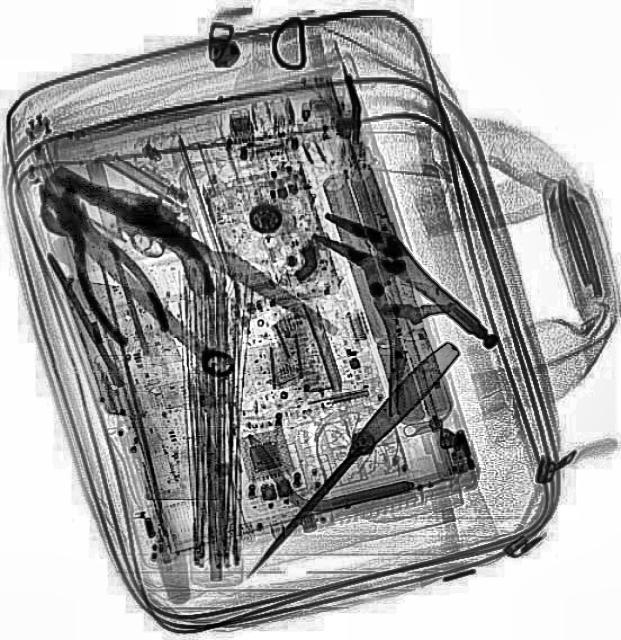Gun: (25, 159, 239, 299)
Knife: (233, 336, 464, 584), (48, 154, 346, 336)
Pliers: (29, 173, 178, 355)
Wrench: (30, 184, 244, 390)
